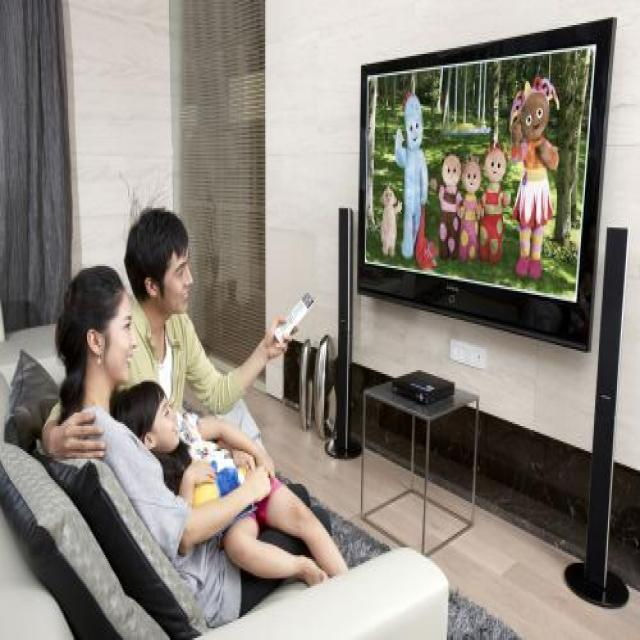tv-person: (48, 10, 619, 589)
